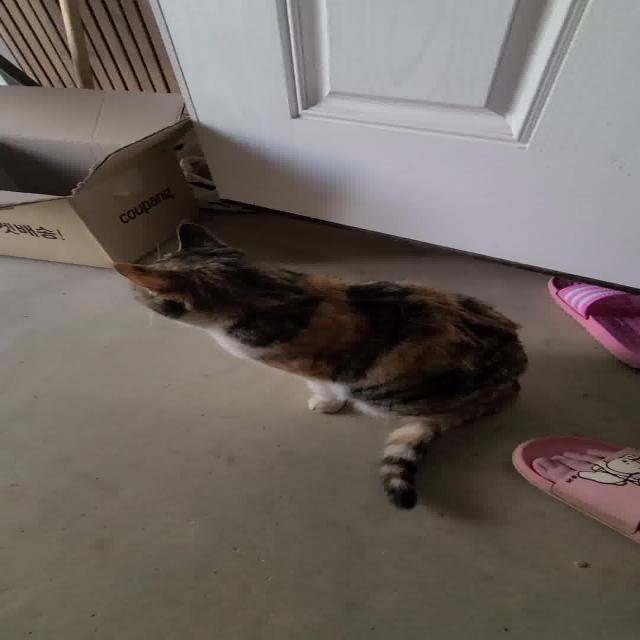cat: (101, 215, 531, 511)
